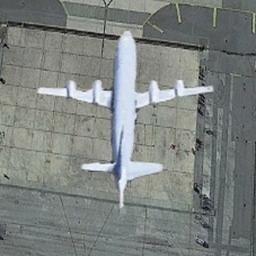Airplane: (36, 29, 214, 209)
